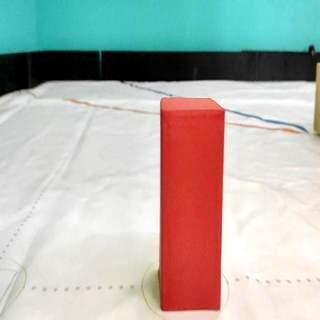redbox: (160, 98, 220, 312)
